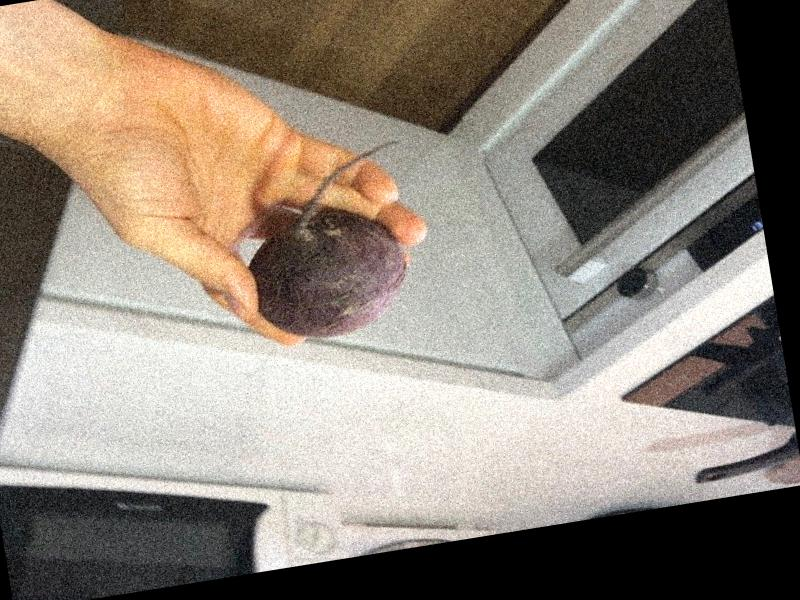Beet: (233, 138, 430, 348)
